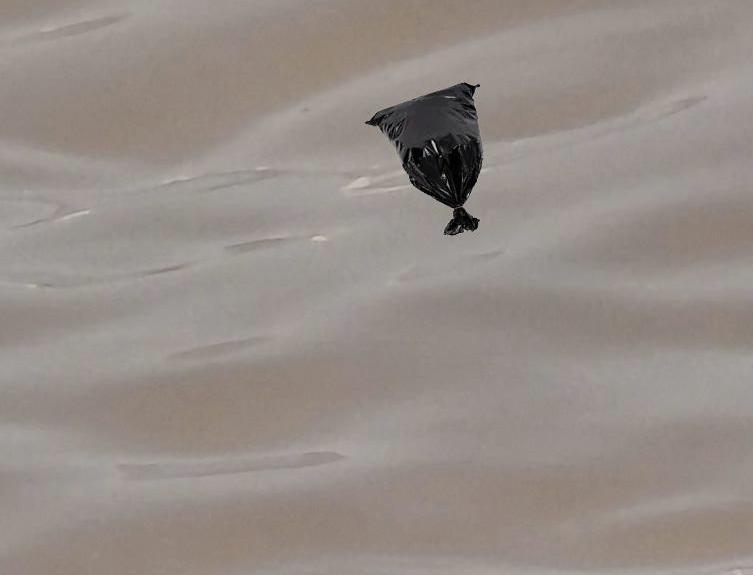Trash: (362, 77, 493, 238)
